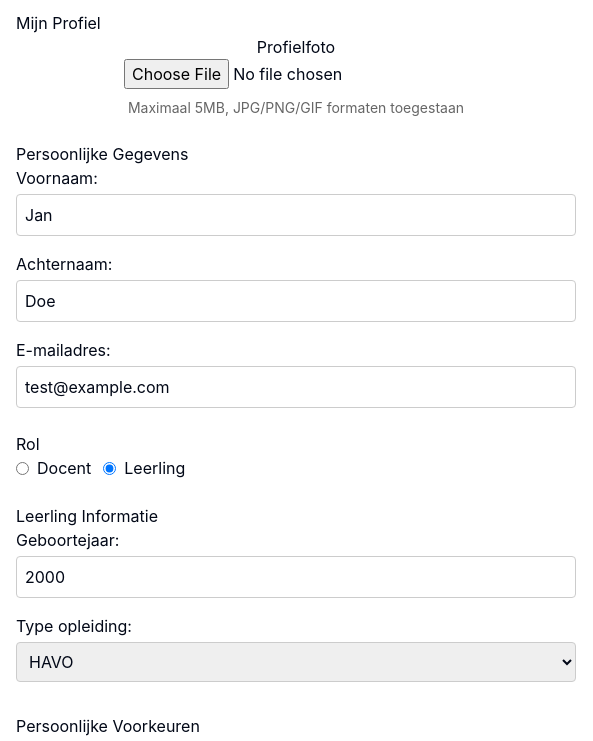
UserProfile › schakelt tussen student en docent velden
Check: the field showing "Jan" is shown, box [16,194,576,236]
Check: the heading "Leerling Informatie" is shown, box [16,506,158,526]
# Schakel naar docent
What coordinates should you click on to do the following:
click the radio button labelled "Docent"
I would click on:
 (22, 468)
Its box is [16,462,29,474].
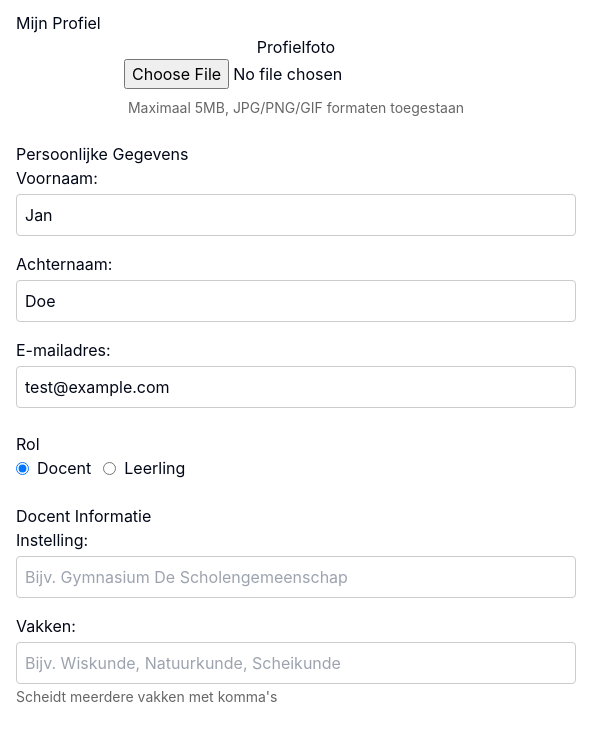
Check: the heading "Docent Informatie" is shown, box [16,506,151,526]
Check: the heading "Leerling Informatie" is gone
